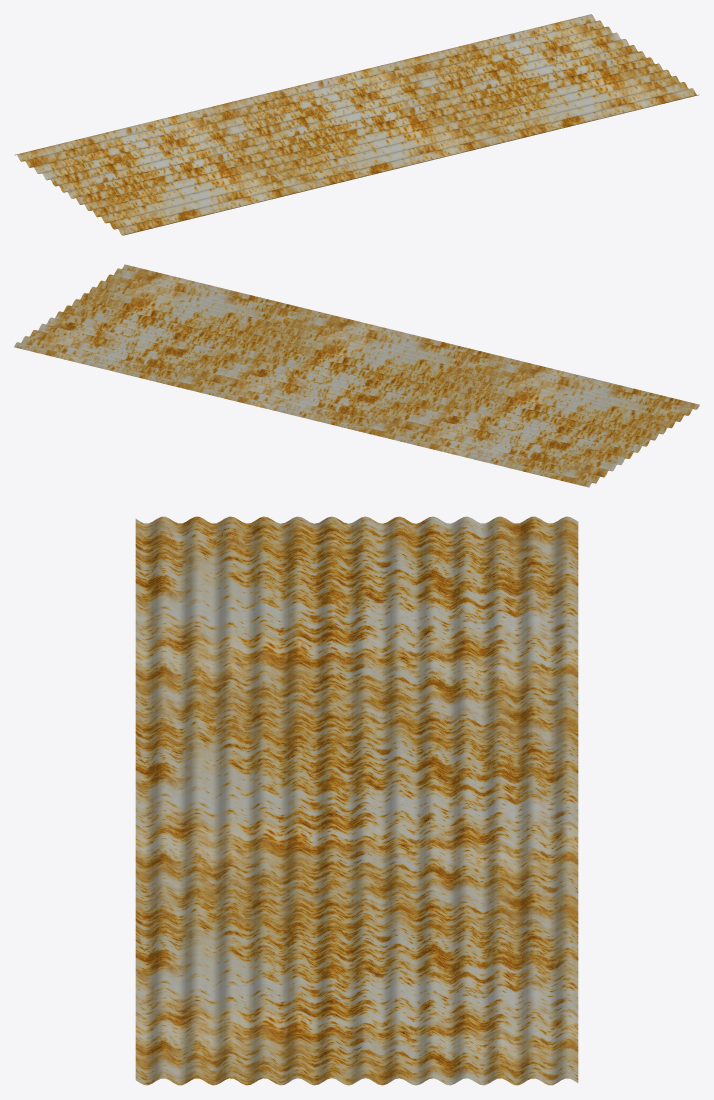
File: oluklu_sac_3x1m.gltf
3 views of the same model, one above another, from view 1: azimuth 30°, elevation 25°; view 2: azimuth 150°, elevation 25°; view 3: azimuth 270°, elevation 25° (orthographic). The views are drawn at different scales.
Parts seen in each view (by area): view 1: oluklu_sac_3x1m; view 2: oluklu_sac_3x1m; view 3: oluklu_sac_3x1m.
Boxes of the visible parts, left/top/right/bottom form: oluklu_sac_3x1m: left=14, top=14, right=699, bottom=235; oluklu_sac_3x1m: left=14, top=264, right=699, bottom=487; oluklu_sac_3x1m: left=135, top=516, right=578, bottom=1085.
Size of what is drawn, in the model's own units: 3 by 0.0188 by 1.
1 material, 1 textured.
